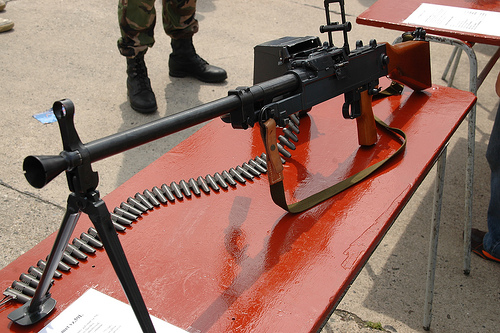rifle: (13, 24, 432, 310)
